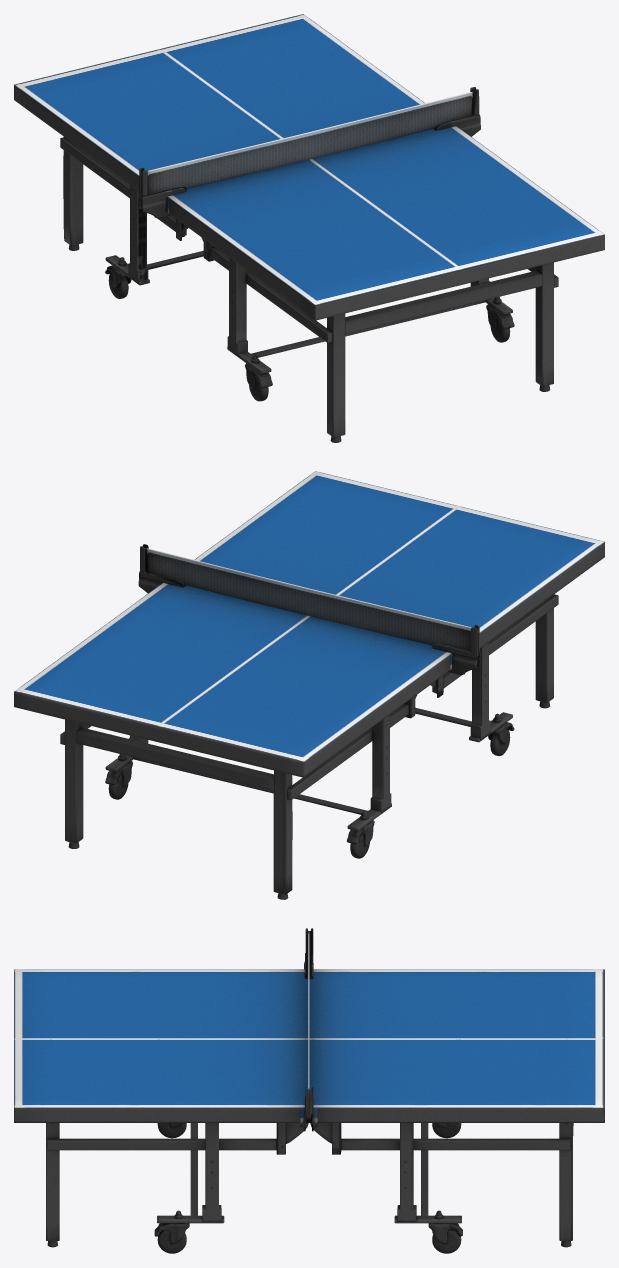
The model's file is Table.obj.
The picture shows the model from 3 angles, top to bottom: view 1: azimuth 30°, elevation 25°; view 2: azimuth 150°, elevation 25°; view 3: azimuth 270°, elevation 25°; orthographic projection. The views are drawn at different scales.
Parts seen in each view (by area): view 1: table; view 2: table; view 3: table.
Boxes of the visible parts, <box> form: table: <box>14,14,604,442</box>; table: <box>14,471,604,899</box>; table: <box>14,928,604,1253</box>.
Size of the model in its own units: 1.53 by 0.8215 by 2.35.
1 material, 1 textured.
